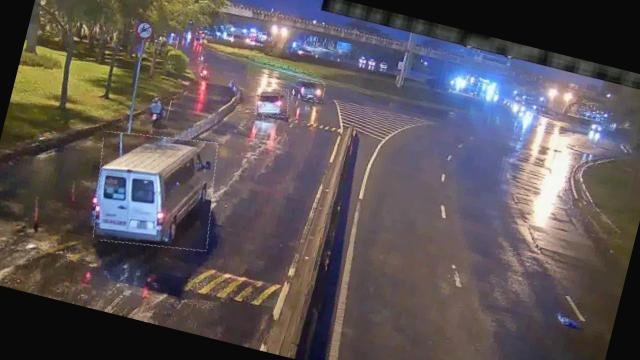Bike: (148, 94, 172, 128)
Bus: (82, 121, 227, 262)
Car: (253, 84, 292, 120), (292, 78, 327, 104)
